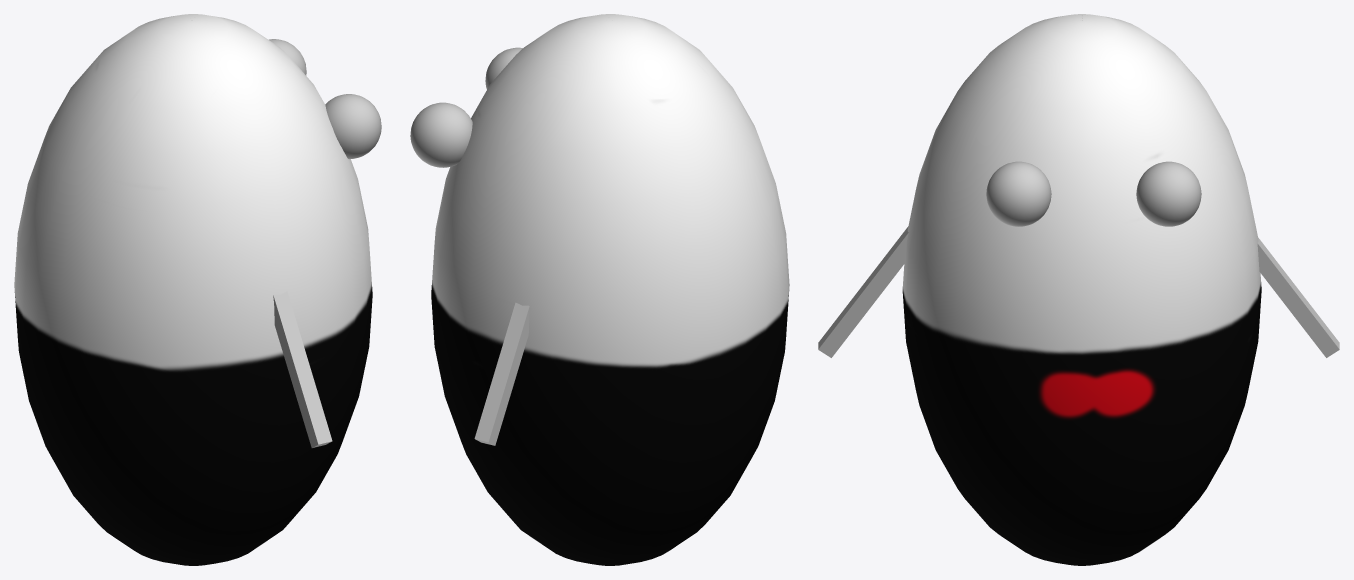
The model's file is player.obj.
3 views of the same model, side by side, from view 1: azimuth 30°, elevation 25°; view 2: azimuth 150°, elevation 25°; view 3: azimuth 270°, elevation 25° (orthographic).
Visible parts, largest first — view 1: 球, 立方体, 平面; view 2: 球, 平面, 立方体.001; view 3: 球, 平面, 立方体, 立方体.001.
Boxes of the visible parts, x1,y1,x2,y2 form: 球: [14, 14, 372, 565]; 立方体: [273, 291, 332, 447]; 平面: [269, 39, 381, 159]; 球: [431, 14, 789, 565]; 平面: [410, 47, 522, 167]; 立方体.001: [474, 302, 529, 445]; 球: [902, 14, 1261, 565]; 平面: [986, 161, 1201, 226]; 立方体: [818, 226, 908, 357]; 立方体.001: [1257, 237, 1339, 357].
Bounding box in the file's own units: 2.2 × 3.6 × 3.2.
Materials: 2 (1 with a texture image).
